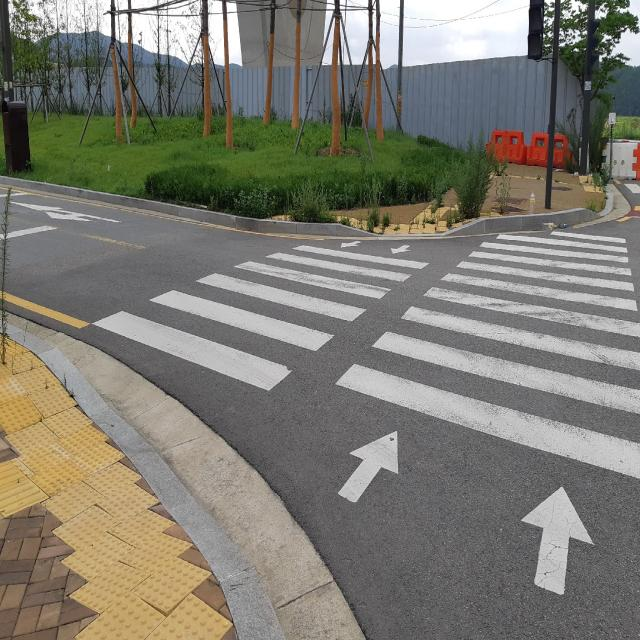횡단보도: (92, 231, 640, 597)
